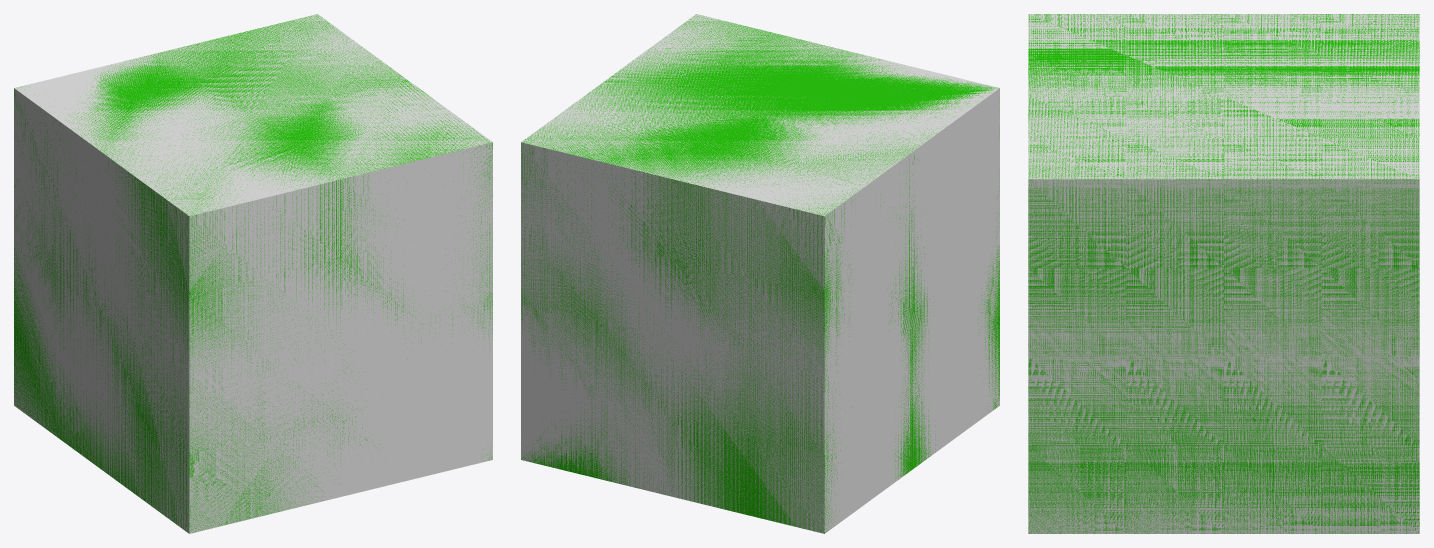
Rendered from botnet.glb.
3 views of the same model, side by side, from view 1: azimuth 30°, elevation 25°; view 2: azimuth 150°, elevation 25°; view 3: azimuth 270°, elevation 25° (orthographic). The views are drawn at different scales.
Parts seen in each view (by area): view 1: wrap, Cube, Cube.048, Cube.032, Cube.049, Cube.016, Cube.012, Cube.050, Cube.062, Cube.058, Cube.054, Cube.061 (+19 smaller); view 2: wrap, Cube.061, Cube.012, Cube.060, Cube.062, Cube.013, Cube.028, Cube.044, Cube.054, Cube.058, Cube.050, Cube.063 (+22 smaller); view 3: wrap, Cube.063, Cube.059, Cube.051, Cube.055, Cube.003, Cube.011, Cube.007, Cube.015, Cube.047, Cube.035, Cube.023 (+17 smaller).
Part boxes in pixels (bbox=[...]): wrap: bbox=[14, 14, 492, 533]; Cube: bbox=[145, 423, 265, 533]; Cube.048: bbox=[145, 166, 264, 295]; Cube.032: bbox=[146, 264, 264, 374]; Cube.049: bbox=[222, 147, 340, 273]; Cube.016: bbox=[145, 345, 264, 454]; Cube.012: bbox=[14, 326, 57, 437]; Cube.050: bbox=[297, 129, 416, 258]; Cube.062: bbox=[167, 32, 284, 82]; Cube.058: bbox=[211, 65, 328, 114]; Cube.054: bbox=[254, 97, 370, 146]; Cube.061: bbox=[98, 51, 208, 101]; wrap: bbox=[521, 14, 999, 533]; Cube.061: bbox=[673, 147, 791, 276]; Cube.012: bbox=[748, 436, 840, 533]; Cube.060: bbox=[748, 166, 862, 295]; Cube.062: bbox=[598, 129, 716, 258]; Cube.013: bbox=[673, 417, 748, 515]; Cube.028: bbox=[748, 357, 852, 454]; Cube.044: bbox=[748, 278, 849, 374]; Cube.054: bbox=[685, 64, 803, 114]; Cube.058: bbox=[641, 97, 759, 146]; Cube.050: bbox=[729, 33, 847, 82]; Cube.063: bbox=[521, 113, 639, 239]; wrap: bbox=[1028, 14, 1419, 533]; Cube.063: bbox=[1321, 138, 1419, 267]; Cube.059: bbox=[1224, 138, 1321, 267]; Cube.051: bbox=[1028, 138, 1126, 267]; Cube.055: bbox=[1126, 138, 1223, 267]; Cube.003: bbox=[1028, 445, 1126, 533]; Cube.011: bbox=[1224, 445, 1321, 533]; Cube.007: bbox=[1126, 445, 1223, 533]; Cube.015: bbox=[1321, 445, 1419, 533]; Cube.047: bbox=[1321, 268, 1419, 356]; Cube.035: bbox=[1028, 268, 1126, 356]; Cube.023: bbox=[1126, 357, 1223, 445].
Bounding box in the file's own units: 2 × 2 × 2.
